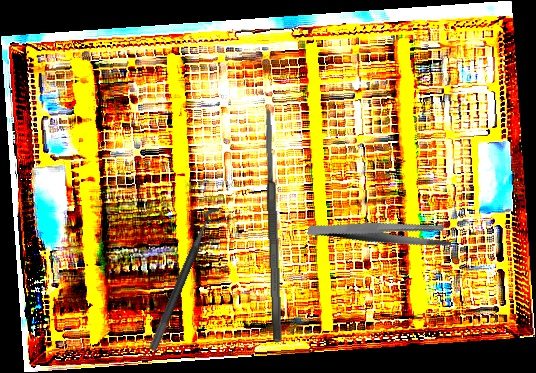Dressing Forceps: (306, 186, 456, 279)
Fixation Ring: (147, 204, 230, 357)
Spatula Surgical: (262, 106, 284, 344)
